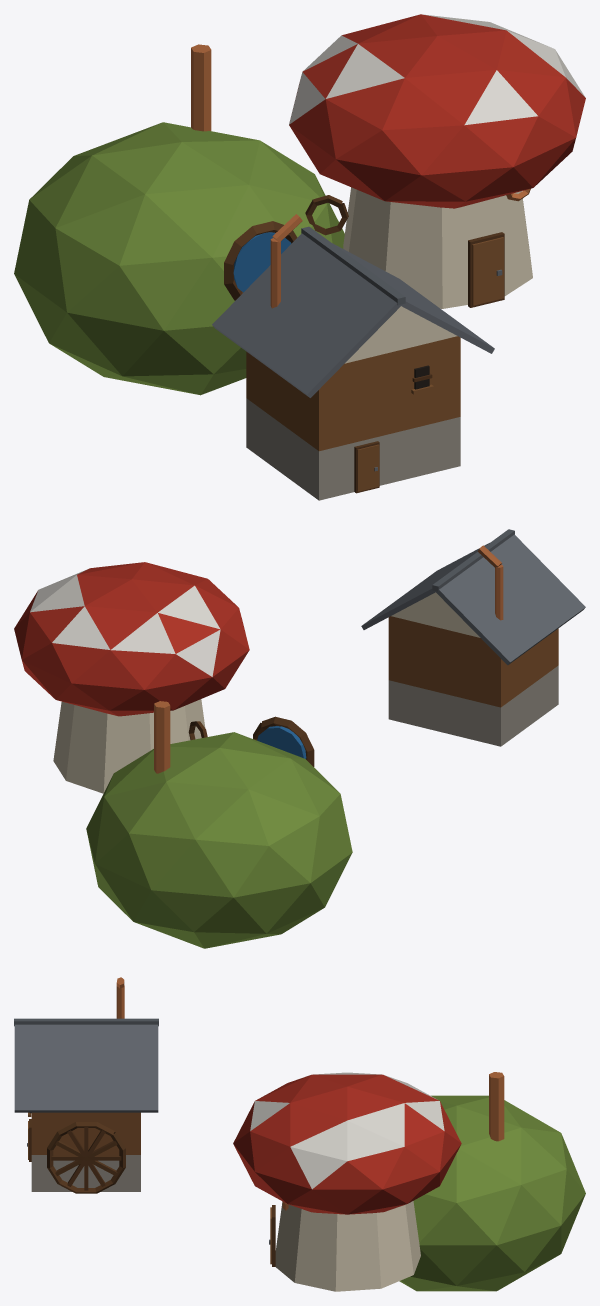
The model's file is gnome_compound_broken.glb.
3 renders of one model, top to bottom at view 1: azimuth 30°, elevation 25°; view 2: azimuth 150°, elevation 25°; view 3: azimuth 270°, elevation 25°, orthographic. The views are drawn at different scales.
Visible parts, largest first — view 1: gnome_compound_piece6, gnome_compound_piece3, gnome_compound_piece9, gnome_compound_piece2, gnome_compound_piece13, gnome_compound_piece7, gnome_compound_piece4, gnome_compound_piece8, gnome_compound_piece5, gnome_compound_piece0; view 2: gnome_compound_piece7, gnome_compound_piece6, gnome_compound_piece3, gnome_compound_piece4, gnome_compound_piece1, gnome_compound_piece8, gnome_compound_piece13, gnome_compound_piece2, gnome_compound_piece9, gnome_compound_piece0, gnome_compound_piece11, gnome_compound_piece10; view 3: gnome_compound_piece6, gnome_compound_piece3, gnome_compound_piece1, gnome_compound_piece10, gnome_compound_piece4, gnome_compound_piece2, gnome_compound_piece7, gnome_compound_piece11, gnome_compound_piece0, gnome_compound_piece12, gnome_compound_piece5.
Part boxes in pixels (x1,y1,x2,y2): gnome_compound_piece6: (212,214,494,500); gnome_compound_piece3: (299,14,585,245); gnome_compound_piece9: (55,190,248,377); gnome_compound_piece2: (263,83,532,308); gnome_compound_piece13: (144,138,360,286); gnome_compound_piece7: (14,122,165,285); gnome_compound_piece4: (145,24,383,188); gnome_compound_piece8: (20,242,85,365); gnome_compound_piece5: (63,343,246,395); gnome_compound_piece0: (278,152,351,250); gnome_compound_piece7: (99,759,327,934); gnome_compound_piece6: (361,529,585,746); gnome_compound_piece3: (18,562,249,676); gnome_compound_piece4: (44,620,283,807); gnome_compound_piece1: (20,617,152,892); gnome_compound_piece8: (105,816,343,948); gnome_compound_piece13: (129,674,314,759); gnome_compound_piece2: (150,652,282,740); gnome_compound_piece9: (286,752,352,878); gnome_compound_piece0: (114,711,153,768); gnome_compound_piece11: (94,783,135,874); gnome_compound_piece10: (14,616,72,780); gnome_compound_piece6: (14,977,158,1193); gnome_compound_piece3: (233,1072,420,1219); gnome_compound_piece1: (401,1118,541,1287); gnome_compound_piece10: (329,1140,426,1291); gnome_compound_piece4: (404,1072,540,1179); gnome_compound_piece2: (269,1205,347,1291); gnome_compound_piece7: (431,1095,585,1236); gnome_compound_piece11: (498,1159,563,1232); gnome_compound_piece0: (402,1163,454,1287); gnome_compound_piece12: (528,1218,561,1266); gnome_compound_piece5: (399,1260,539,1291).
Size of the model in its own units: 3.33 by 2.35 by 4.6.
